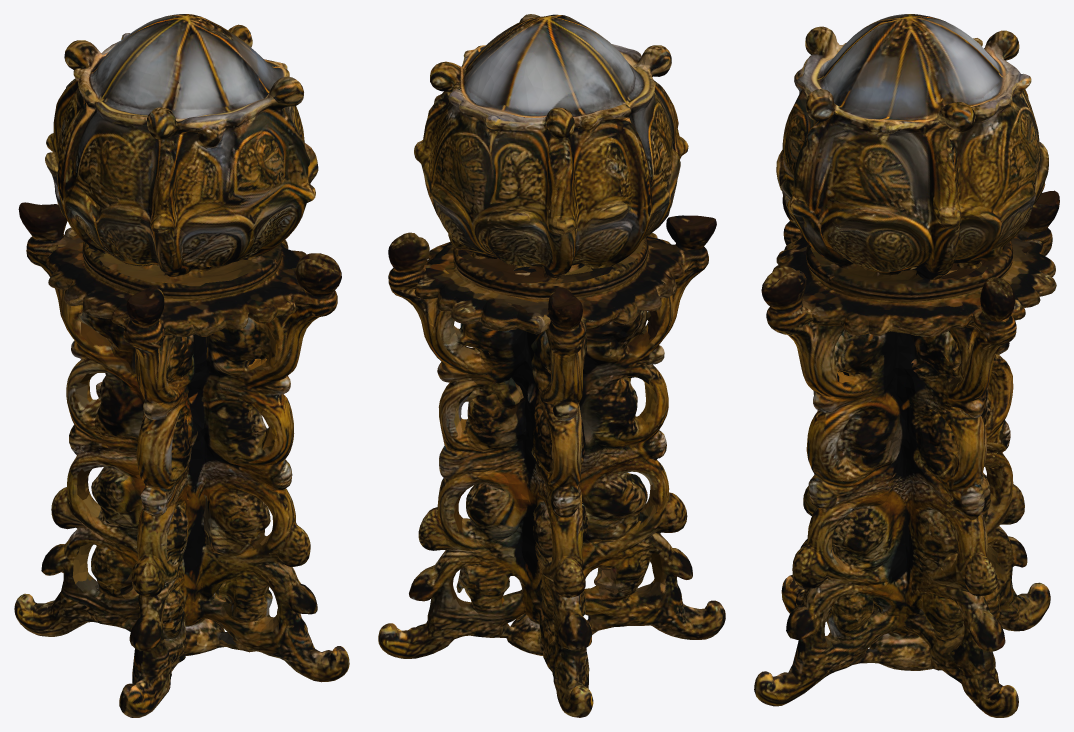
The picture shows the model from 3 angles, left to right: view 1: azimuth 30°, elevation 25°; view 2: azimuth 150°, elevation 25°; view 3: azimuth 270°, elevation 25°; orthographic projection. The views are drawn at different scales.
Visible parts, largest first — view 1: textured_mesh; view 2: textured_mesh; view 3: textured_mesh.
Boxes of the visible parts, x1,y1,x2,y2 form: textured_mesh: [14, 14, 349, 717]; textured_mesh: [378, 14, 725, 717]; textured_mesh: [754, 14, 1059, 717].
Bounding box in the file's own units: 0.7895 × 1.99 × 0.847.
1 material, 1 textured.
